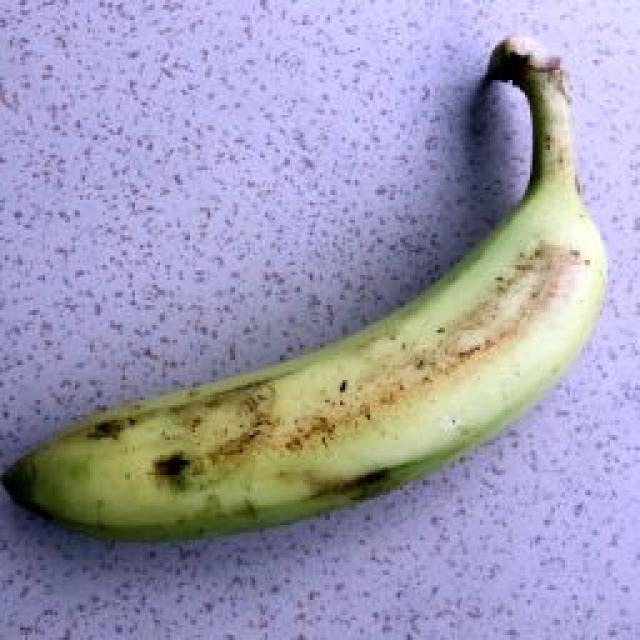banana: (81, 103, 529, 518)
